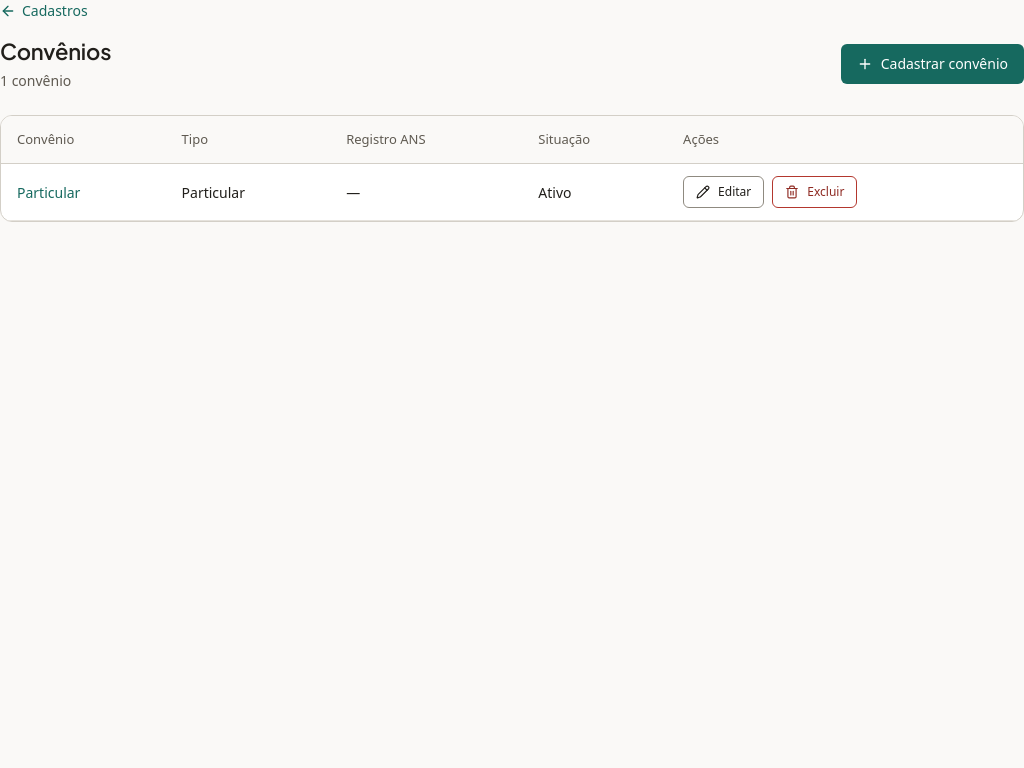
Scenario: Convênios — a fronteira §14 › deve não oferecer nenhuma ação de guia, TISS, faturamento ou glosa
The width and height of the screenshot is (1024, 768).
Expected: the link "Particular" is shown, x1=17 y1=183 x2=80 y2=202
Click the button "Cadastrar convênio" at (932,64), box x1=841 y1=44 x2=1023 y2=84
(page scrolled)
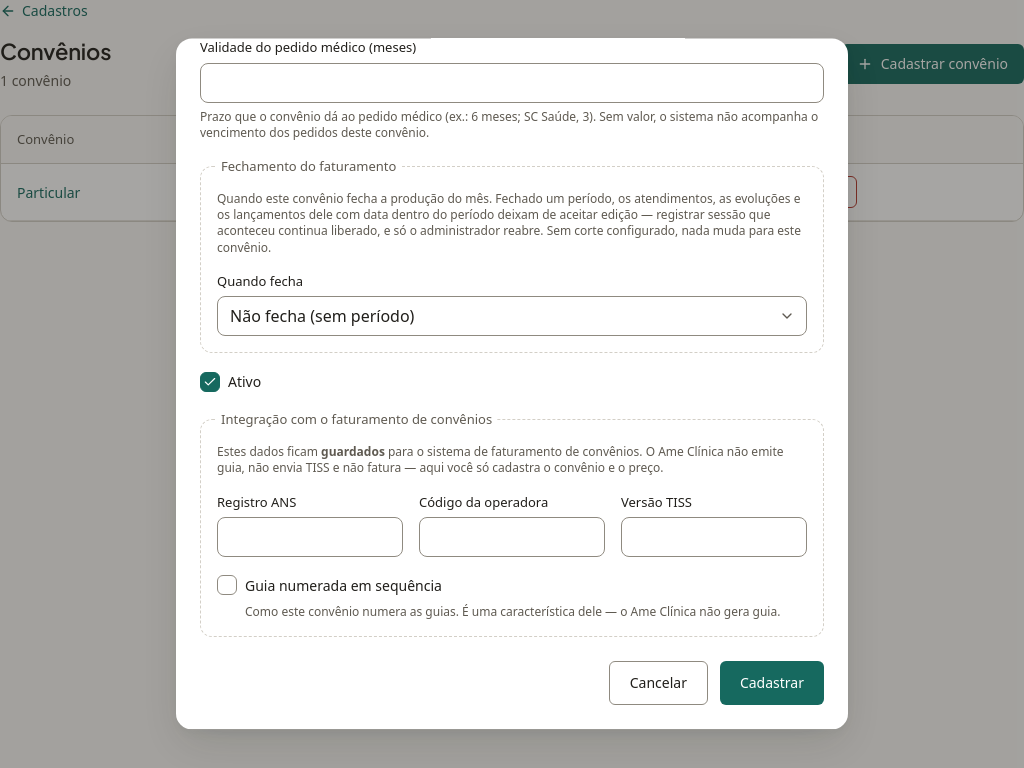
Result: the checkbox named "Guia numerada em sequência" next to "Guia numerada em sequência" is shown at x1=217 y1=576 x2=237 y2=596
